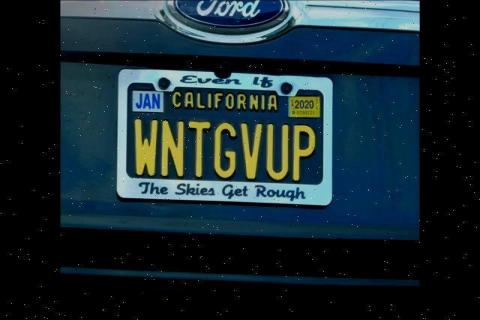LicensePlate: (115, 59, 341, 215)
